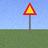sign: (23, 2, 37, 33)
